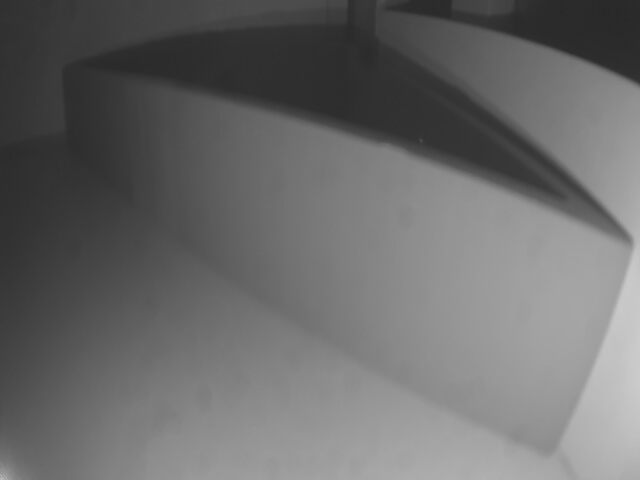Green: (60, 65, 619, 459)
